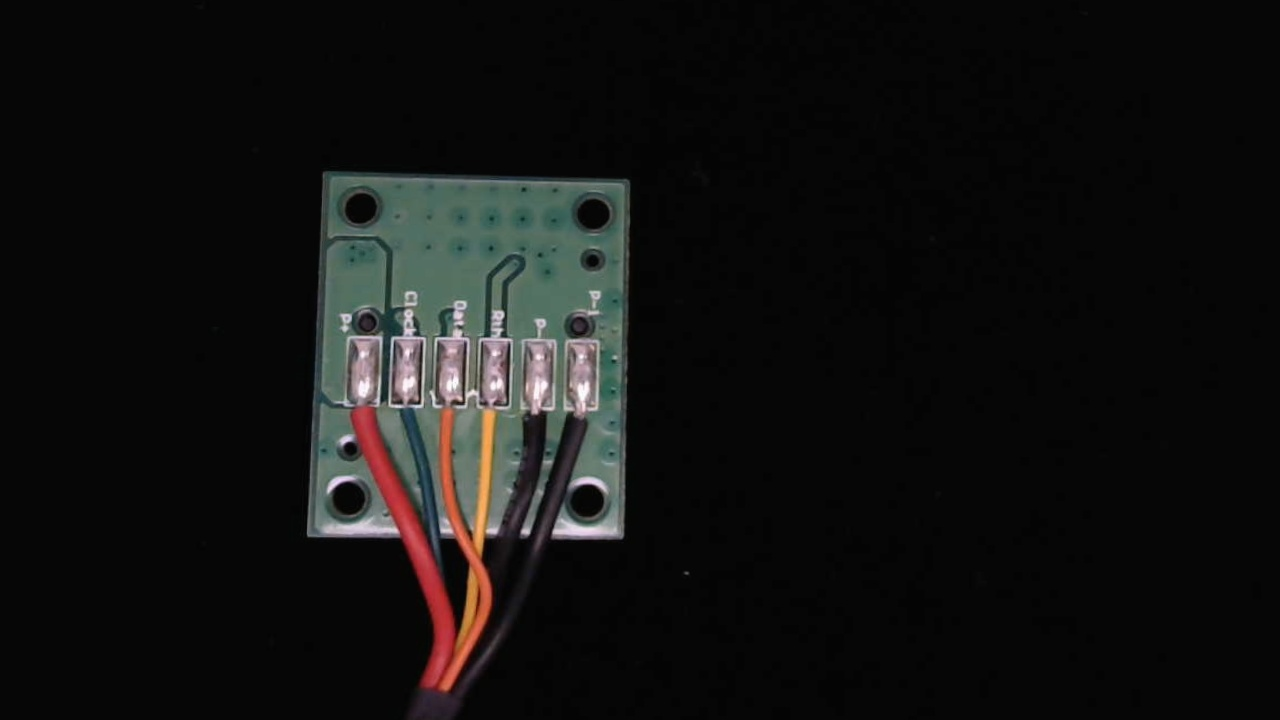Black: (519, 389, 556, 454)
Black1: (564, 390, 599, 456)
Green: (385, 387, 426, 450)
Orange: (429, 387, 467, 462)
Red: (344, 383, 383, 458)
Yellow: (476, 390, 512, 459)
